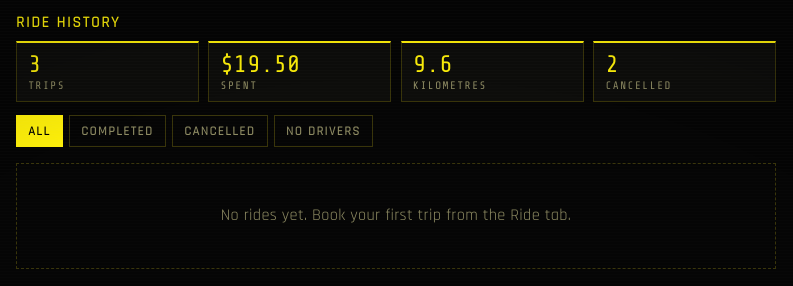
HistoryPage › re-queries with the status when a filter is chosen
Click the tab "Cancelled" at (220, 131), box [172, 115, 268, 147]
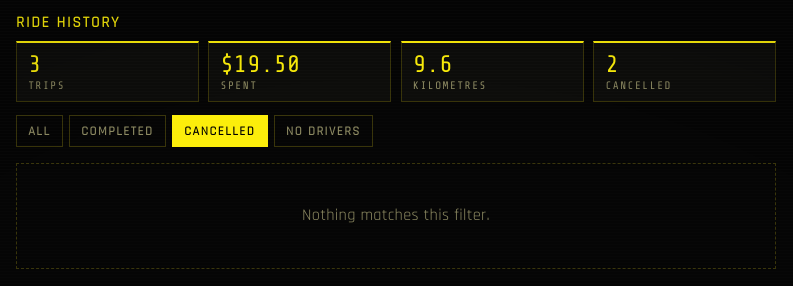
Now the text "Nothing matches this filter." is shown, box [16, 163, 776, 269]
